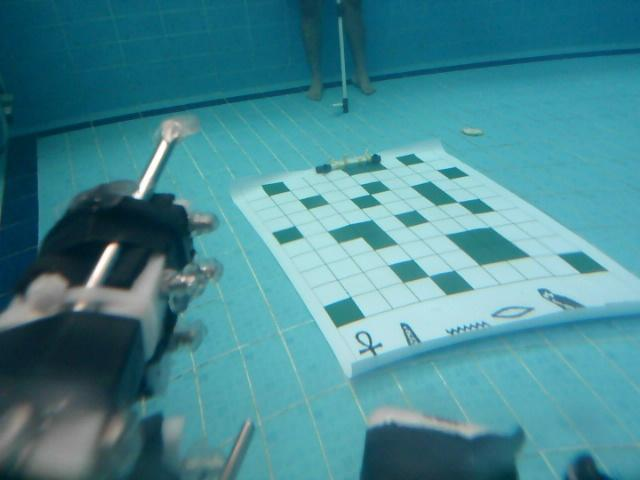Ankh: (352, 329, 384, 361)
Mouth: (491, 304, 536, 320)
Owl: (535, 284, 586, 313)
Reed: (400, 323, 422, 348)
Water: (445, 319, 488, 338)
